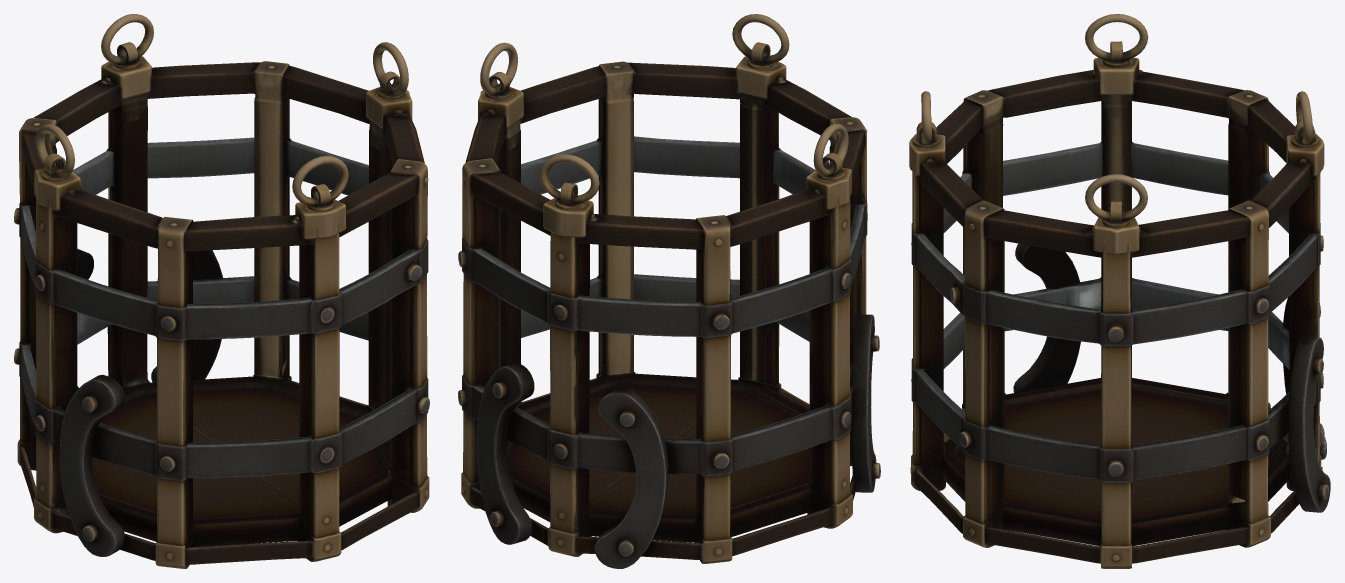
File: SM_Basket_01_Octagonal_Empty.glb
3 views of the same model, side by side, from view 1: azimuth 30°, elevation 25°; view 2: azimuth 150°, elevation 25°; view 3: azimuth 270°, elevation 25° (orthographic). The views are drawn at different scales.
Visible parts, largest first — view 1: tripo_node_e7f3425f; view 2: tripo_node_e7f3425f; view 3: tripo_node_e7f3425f.
Part boxes in pixels (x1,y1,x2,y2): tripo_node_e7f3425f: (14,14,429,568); tripo_node_e7f3425f: (458,14,880,568); tripo_node_e7f3425f: (909,14,1330,568).
Bounding box in the file's own units: 0.9888 × 0.9995 × 0.978.
1 material, 1 textured.
